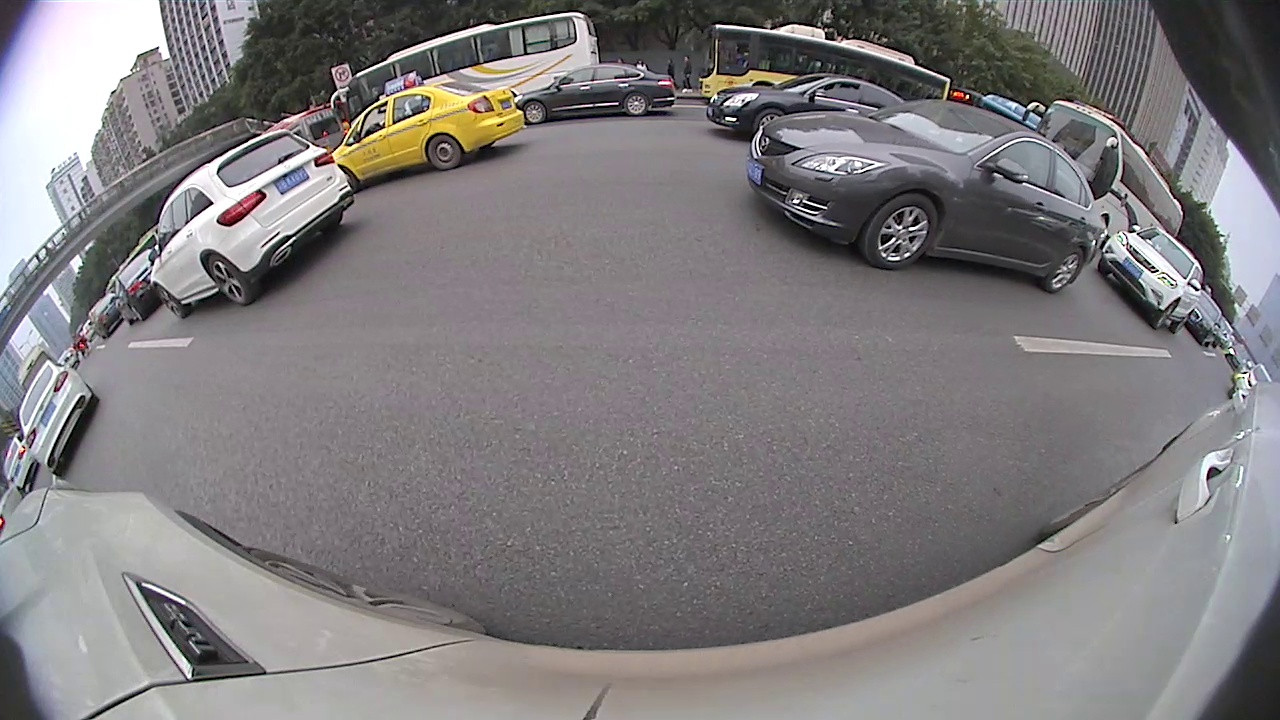bus: (349, 10, 599, 114), (693, 19, 952, 113), (1026, 94, 1187, 245)
car: (746, 97, 1102, 297), (143, 127, 359, 319), (335, 78, 525, 169), (1094, 228, 1206, 336), (706, 78, 916, 134), (511, 61, 680, 124), (13, 359, 98, 475), (110, 250, 160, 326), (1, 431, 40, 495)
front: (860, 192, 936, 269), (154, 283, 190, 318), (1150, 297, 1180, 327), (522, 101, 546, 123)
rear: (207, 254, 257, 304), (1043, 248, 1087, 293), (426, 135, 461, 171), (624, 93, 649, 116), (1168, 310, 1194, 332)
